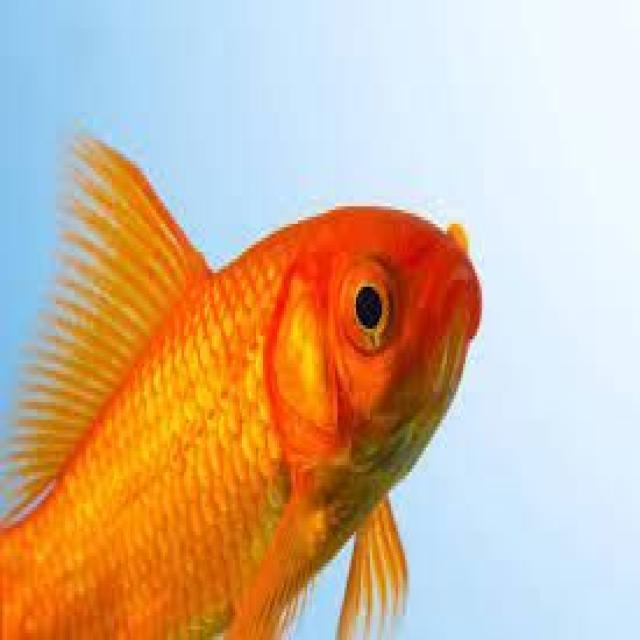Gold-Fish: (0, 101, 526, 640)
